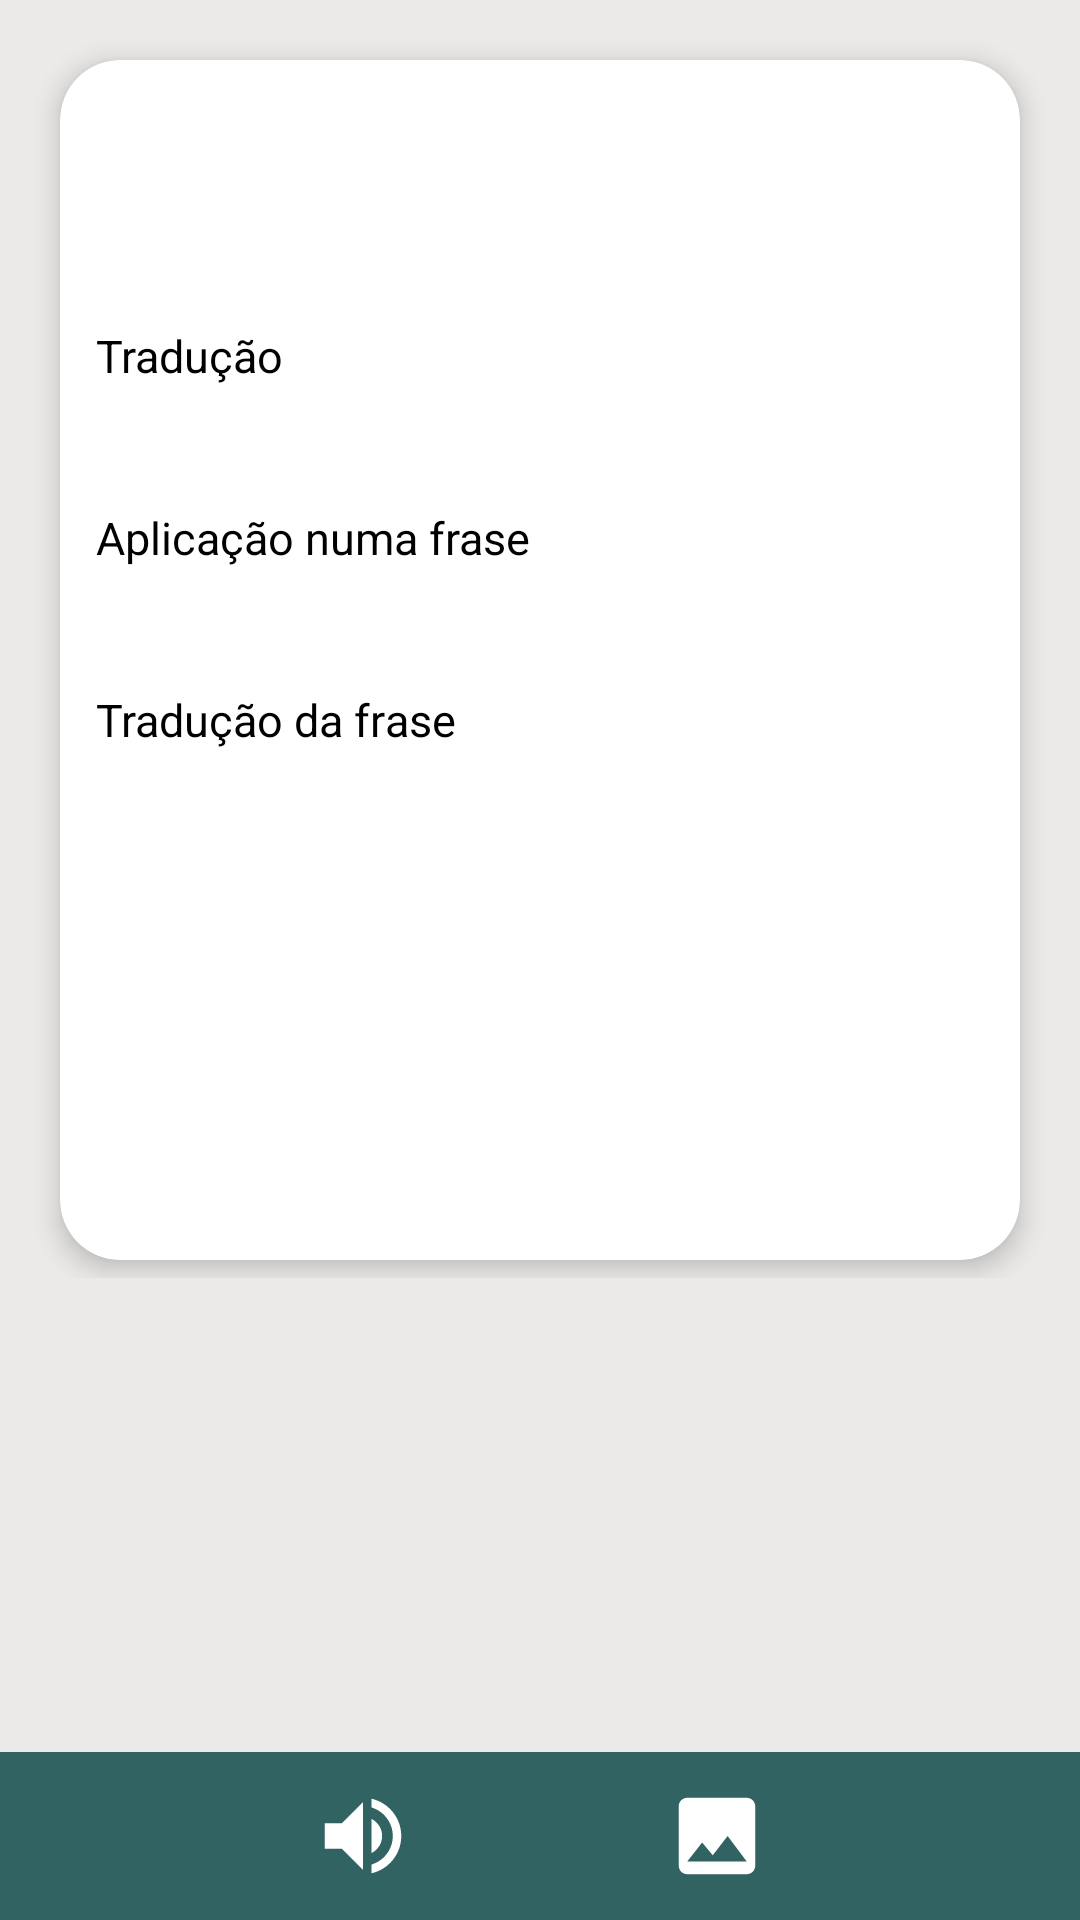

Icon bounding boxes for this 1080×1920 phone screenshot, format (x1=x1, y1=y1, x2=x2, y2=y2):
volume up: (x1=324, y1=1798, x2=402, y2=1874)
